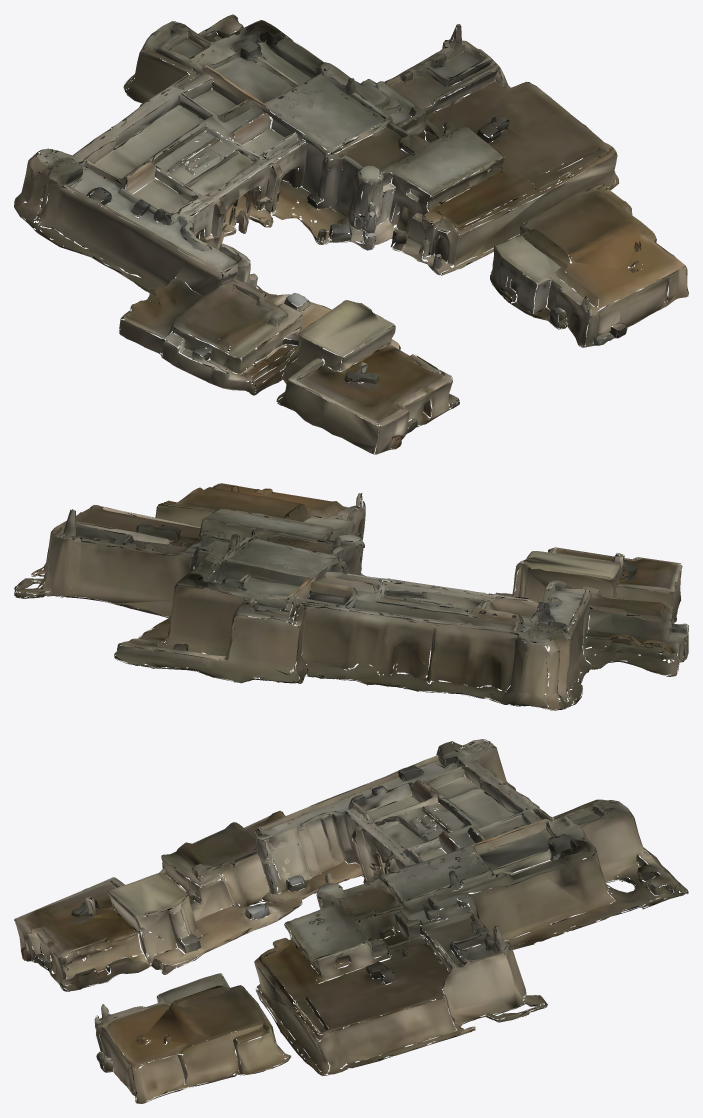
Rendered from arvala-nikto-compound.glb.
3 renders of one model, top to bottom at view 1: azimuth 30°, elevation 25°; view 2: azimuth 150°, elevation 25°; view 3: azimuth 270°, elevation 25°, orthographic. The views are drawn at different scales.
Visible parts, largest first — view 1: low; view 2: low; view 3: low.
Part boxes in pixels (x1,y1,x2,y2): low: [14, 14, 688, 454]; low: [14, 483, 688, 710]; low: [14, 739, 688, 1103].
Size of the model in its own units: 0.8024 by 0.2768 by 0.8964.
Materials: 1 (1 with a texture image).
